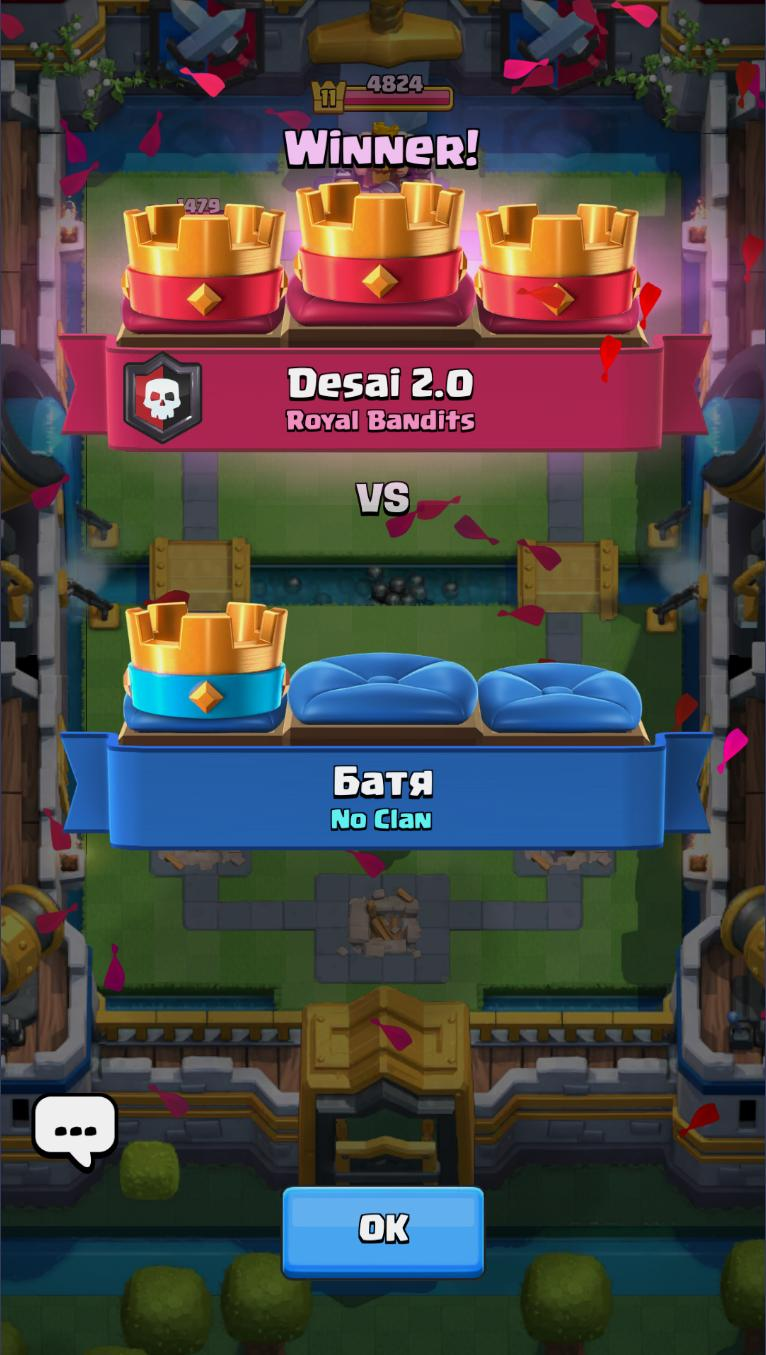KingTowerHP: (308, 74, 454, 116)
Lose_3-1: (53, 178, 708, 848)
MyKingTowerBrocken: (310, 867, 453, 986)
